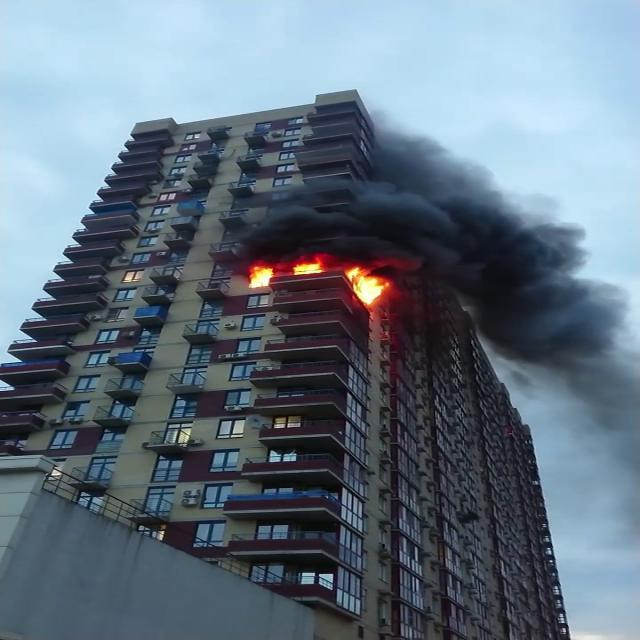Fire: (244, 256, 332, 288), (346, 264, 389, 306)
Smoke: (228, 118, 589, 266), (437, 194, 638, 430)
